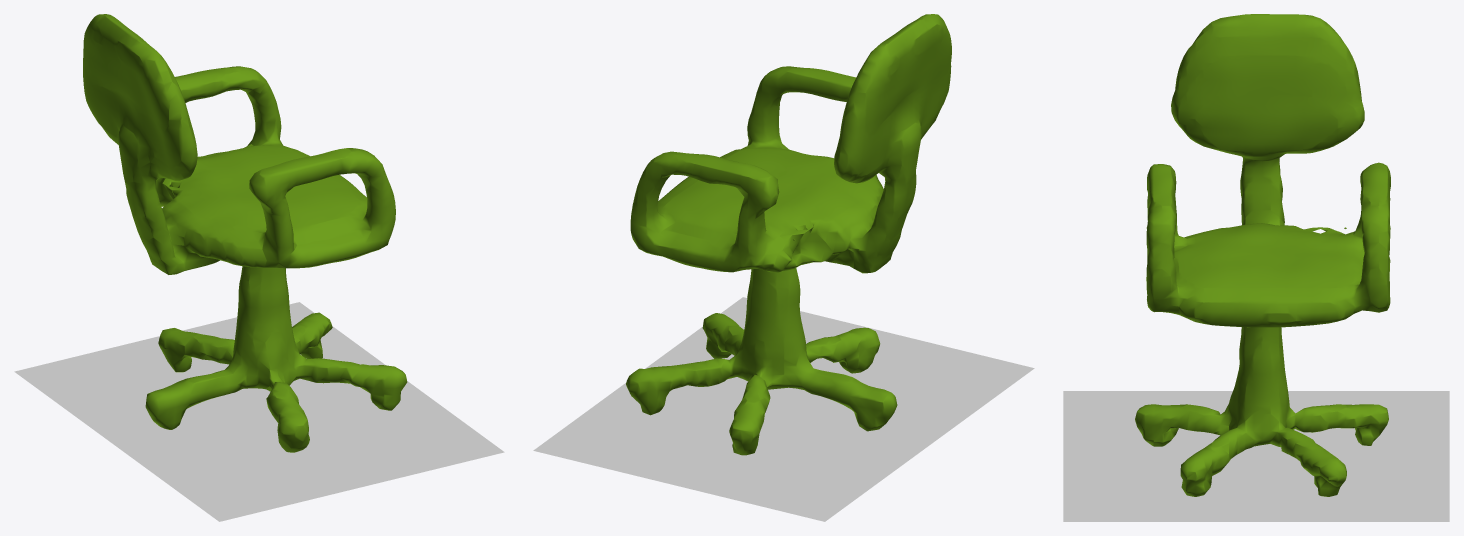
Rendered from chair.glb.
3 renders of one model, left to right at view 1: azimuth 30°, elevation 25°; view 2: azimuth 150°, elevation 25°; view 3: azimuth 270°, elevation 25°, orthographic. The views are drawn at different scales.
Visible parts, largest first — view 1: chair, world; view 2: chair, world; view 3: chair, world.
Part boxes in pixels (x1,y1,x2,y2): chair: (83, 14, 407, 452); world: (14, 302, 504, 521); chair: (626, 14, 951, 455); world: (533, 297, 1034, 521); chair: (1135, 14, 1390, 496); world: (1063, 391, 1449, 521).
Bounding box in the file's own units: 0.5812 × 0.7943 × 0.7241.
